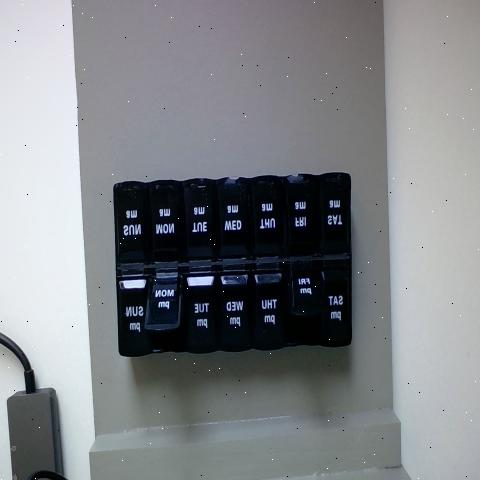FRI-am: (283, 174, 317, 254)
MON-am: (146, 181, 179, 259)
Open: (287, 277, 325, 344), (147, 283, 182, 351)
PillBox: (101, 130, 375, 400)
SAT-am: (319, 172, 350, 252)
SAT-pm: (320, 262, 350, 345)
SUN-am: (116, 182, 144, 265)
SUN-pm: (118, 278, 144, 354)
THU-am: (248, 174, 282, 255)
THU-pm: (251, 264, 285, 347)
TUE-am: (182, 180, 214, 260)
TUE-pm: (185, 272, 213, 349)
WED-am: (216, 177, 247, 257)
WED-pm: (218, 270, 249, 350)
